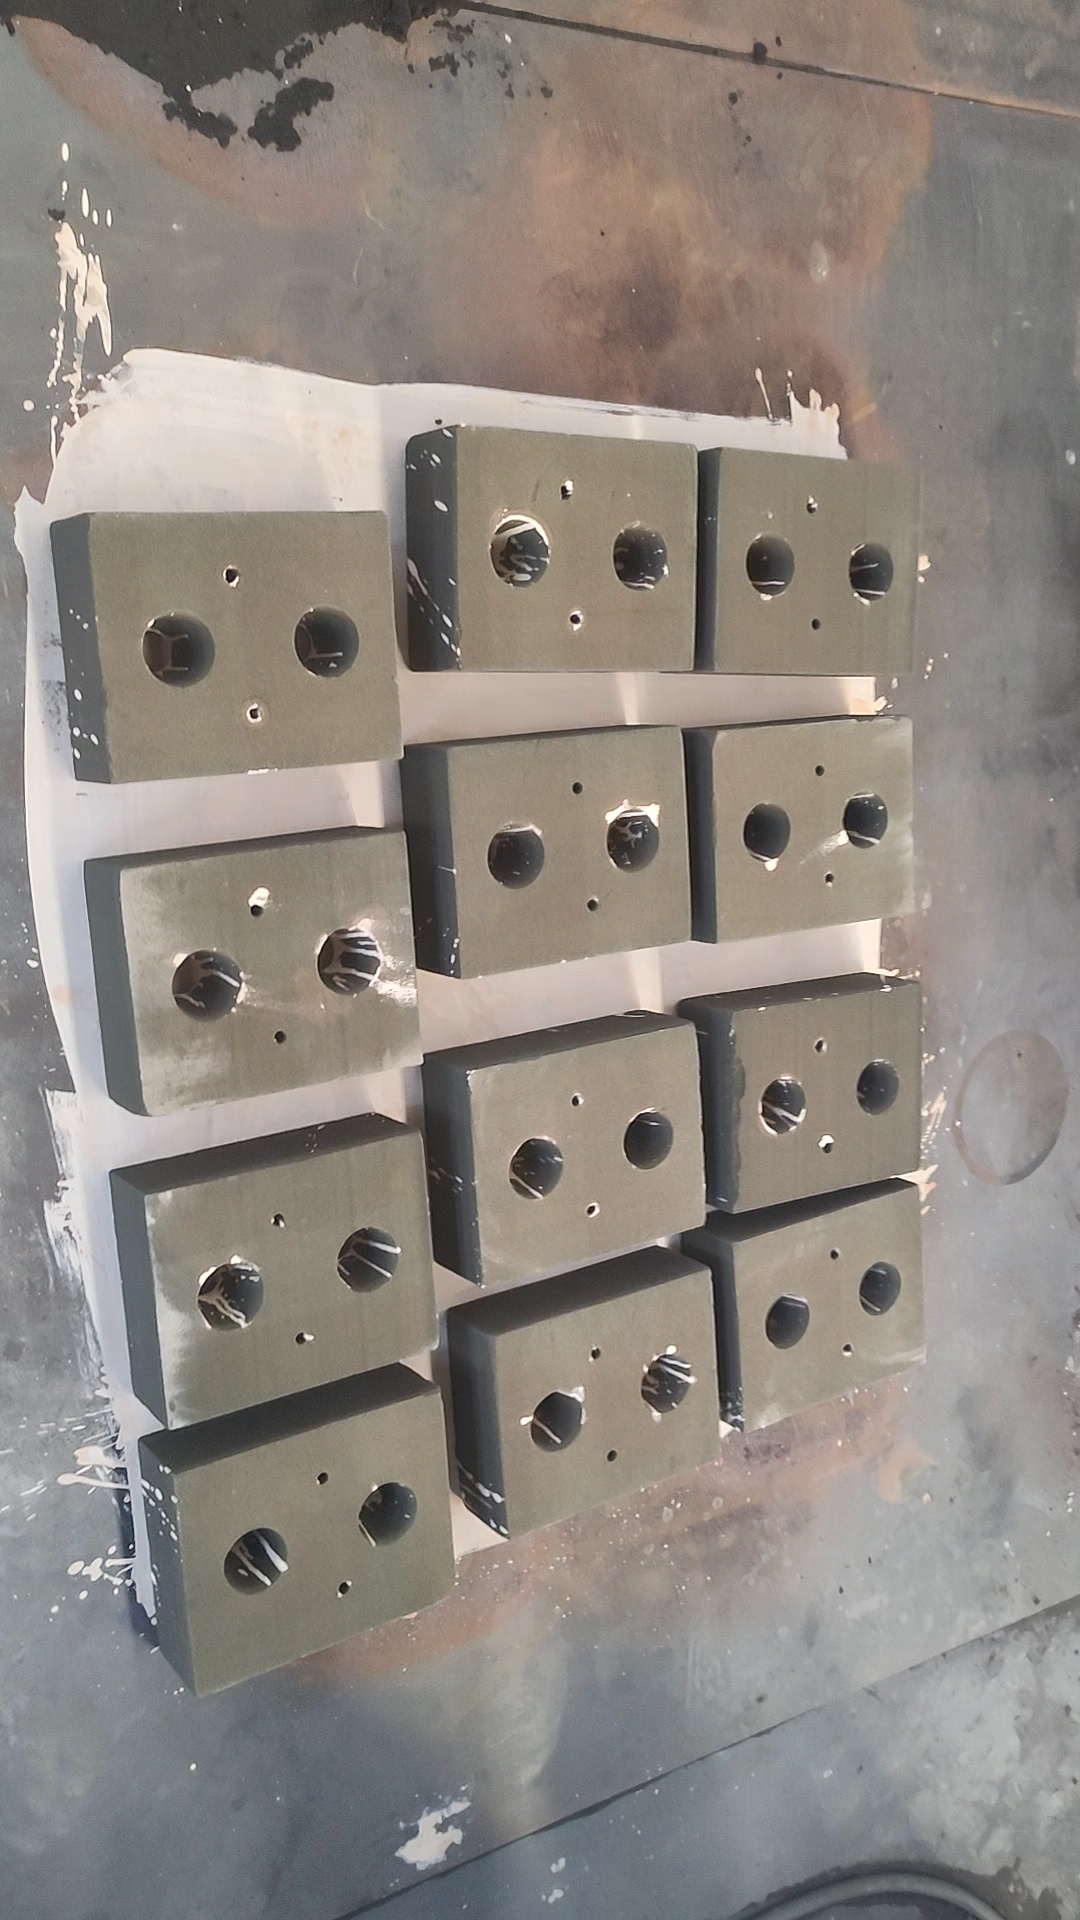pouring hole: (141, 611, 216, 688), (171, 949, 243, 1021), (294, 604, 360, 679), (196, 1259, 262, 1331), (491, 516, 553, 589), (223, 1526, 287, 1594), (316, 926, 378, 994), (338, 1225, 397, 1294), (357, 1481, 418, 1545), (527, 1391, 585, 1455), (615, 520, 667, 588), (487, 823, 545, 885), (509, 1138, 564, 1201), (605, 808, 659, 872), (745, 534, 796, 597), (642, 1352, 694, 1415), (625, 1109, 674, 1172), (742, 802, 791, 862), (761, 1077, 807, 1134), (851, 542, 895, 600), (764, 1294, 811, 1348), (844, 791, 889, 848), (855, 1059, 899, 1116), (856, 1262, 903, 1315)
